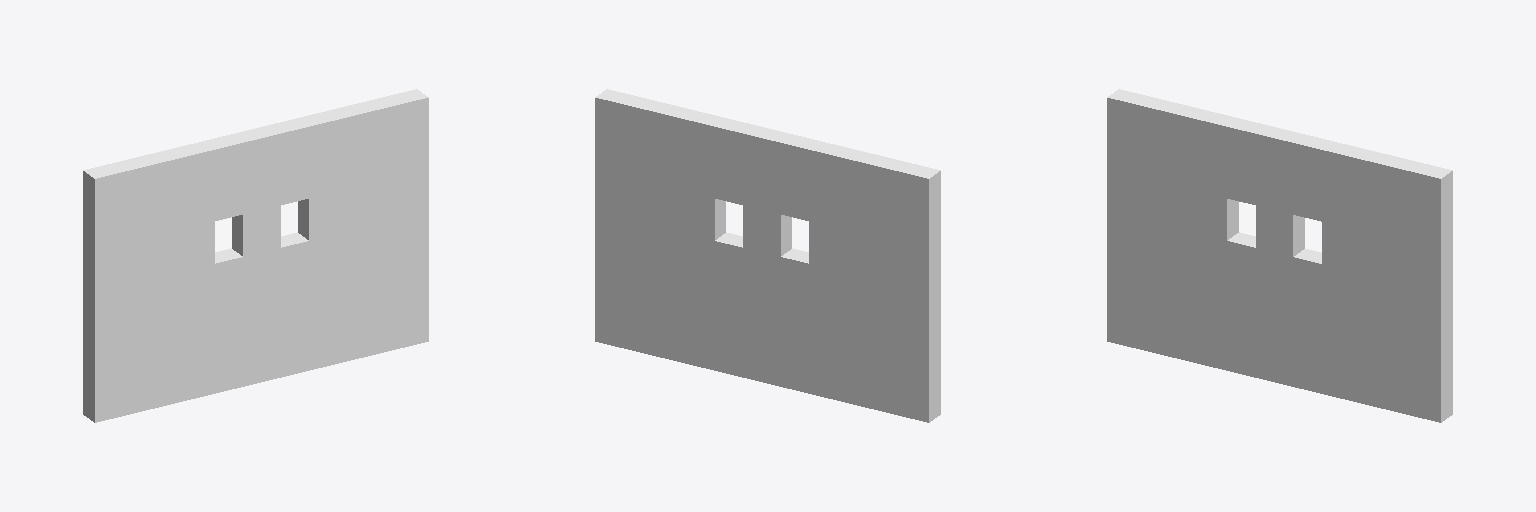
Rendered from New Game Object.obj.
3 views of the same model, side by side, from view 1: azimuth 30°, elevation 25°; view 2: azimuth 150°, elevation 25°; view 3: azimuth 330°, elevation 25° (orthographic).
Parts seen in each view (by area): view 1: New Game Object; view 2: New Game Object; view 3: New Game Object.
Boxes of the visible parts, box(x1,y1,x2,y2) form: New Game Object: box(83, 89, 428, 422); New Game Object: box(595, 89, 940, 422); New Game Object: box(1107, 89, 1452, 422).
Bounding box in the file's own units: 14.32 × 10 × 0.8674.